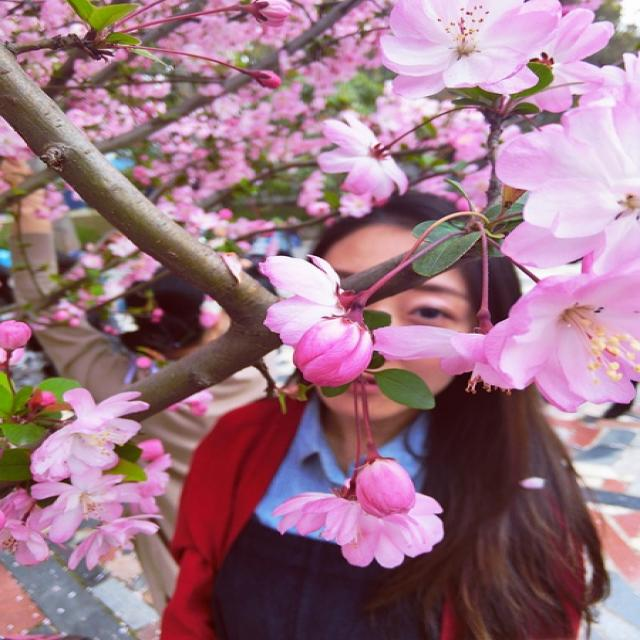nomask: (311, 234, 471, 421)
